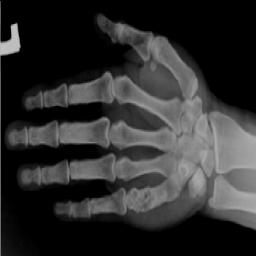cancer: (127, 176, 176, 213)
